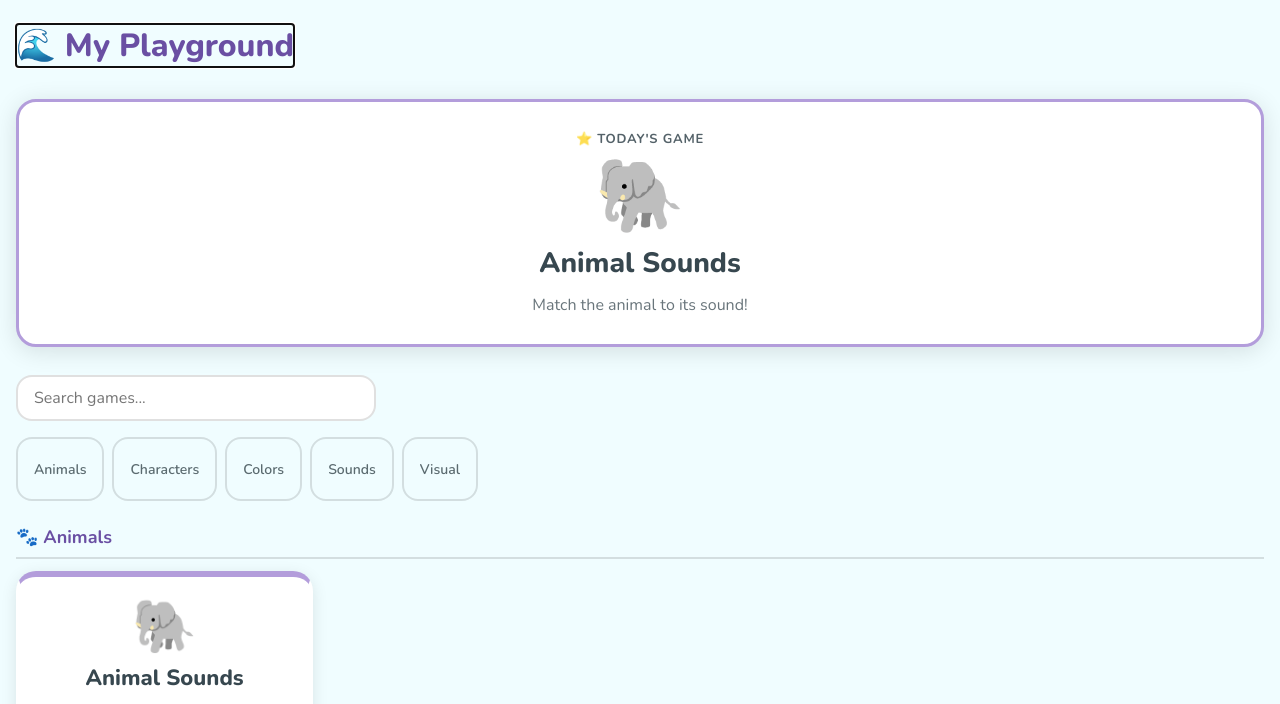
Test case: Dashboard › announces the result count while a filter is active
This screenshot has width=1280, height=704.
Click the button "Sounds". click: [352, 469]
box: [310, 437, 394, 501]
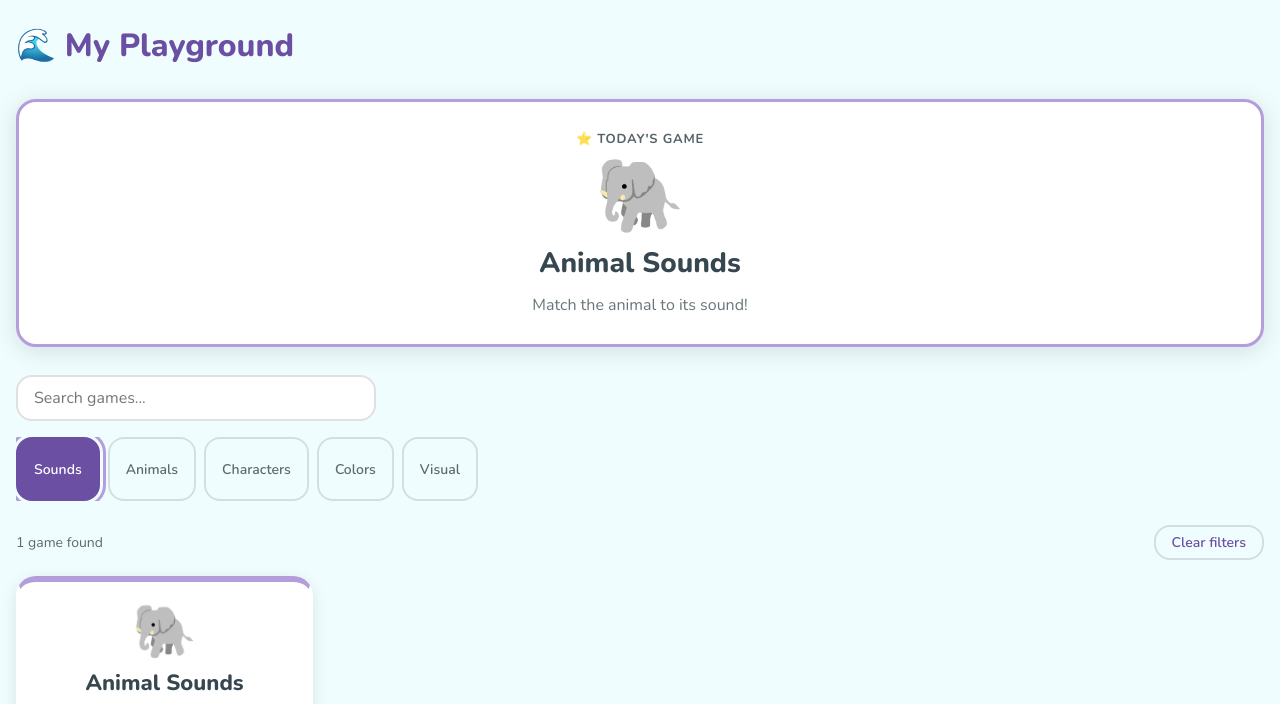
Check: the message reads "1 game found", box [16, 533, 103, 552]
